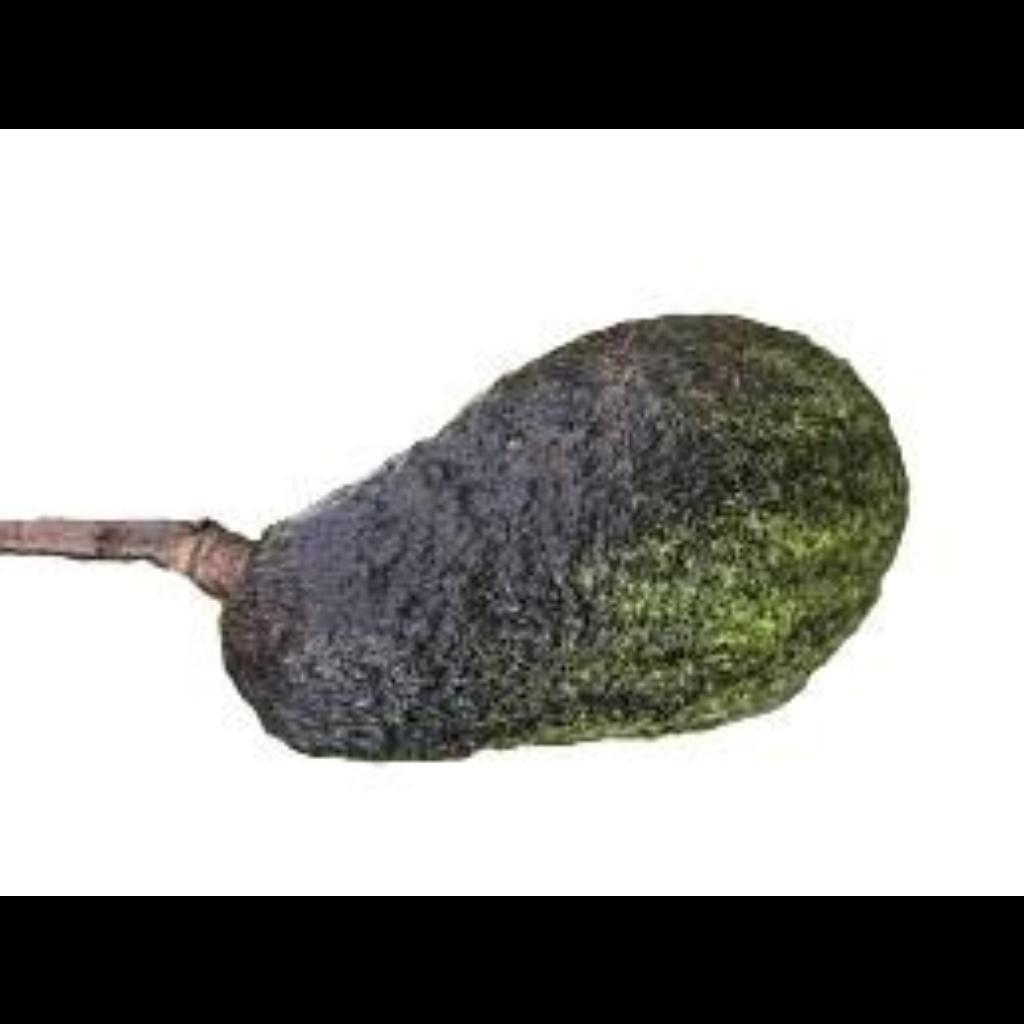Anthracnose: (237, 322, 925, 760)
